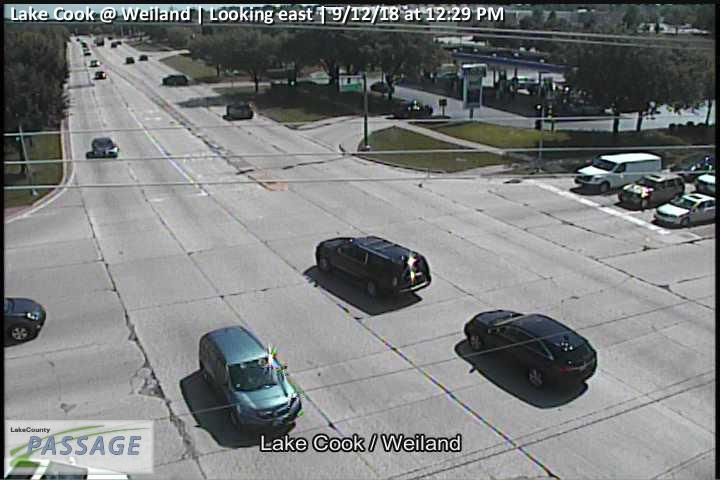SUV: (199, 326, 301, 432), (464, 309, 597, 390), (316, 235, 431, 297), (619, 174, 685, 210), (227, 101, 253, 120), (163, 74, 188, 85)
Sedan: (655, 193, 716, 227), (93, 137, 118, 156), (95, 71, 106, 79), (90, 60, 100, 67), (139, 54, 148, 61), (126, 57, 135, 63)
Truck: (575, 152, 662, 193)
